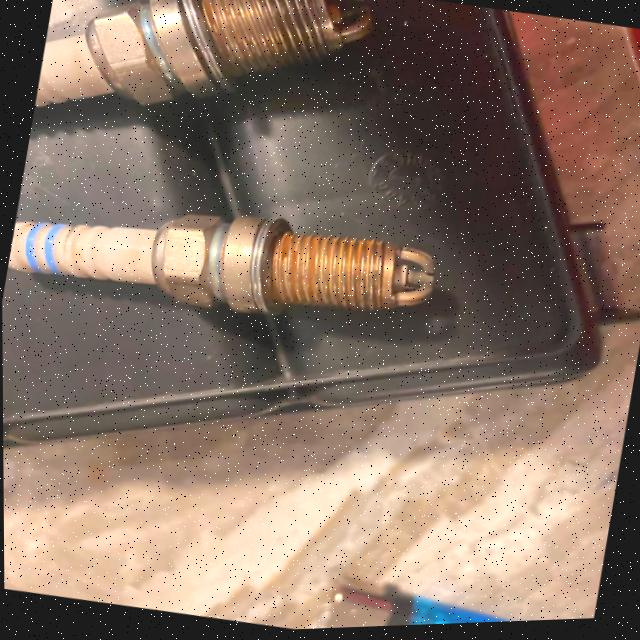spark-plug: (1, 167, 451, 371)
